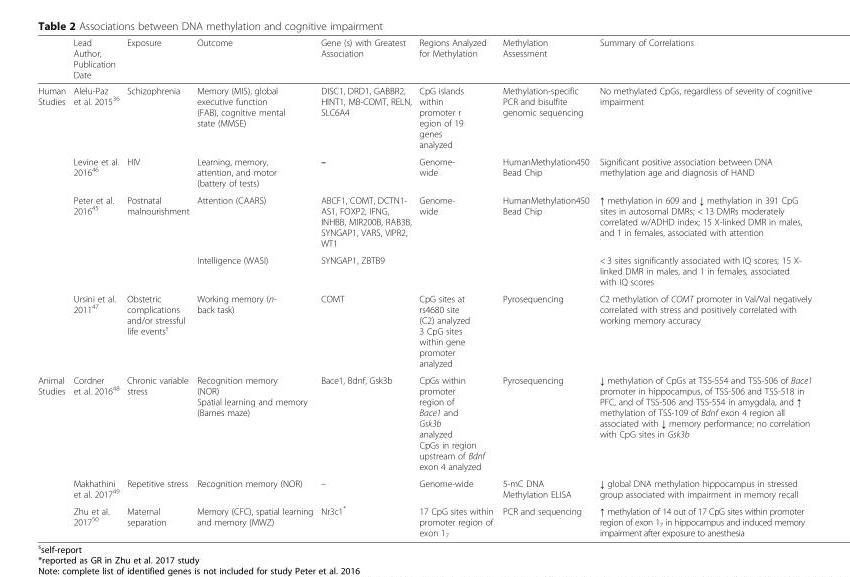table: (38, 36, 812, 538)
table column: (594, 36, 812, 538), (193, 36, 317, 538), (317, 36, 415, 538), (498, 36, 594, 538), (415, 36, 498, 538), (123, 36, 193, 538), (69, 36, 123, 538), (38, 36, 69, 538)
table column header: (38, 36, 812, 82)
table row: (38, 371, 812, 474), (38, 289, 812, 371), (38, 82, 812, 152), (38, 191, 812, 251), (38, 36, 812, 82), (38, 152, 812, 191), (38, 251, 812, 289), (38, 501, 812, 538), (38, 474, 812, 501)
table spanning cell: (498, 191, 594, 289), (38, 82, 69, 371), (415, 191, 498, 289), (123, 191, 193, 289), (69, 191, 123, 289), (38, 371, 69, 538)
